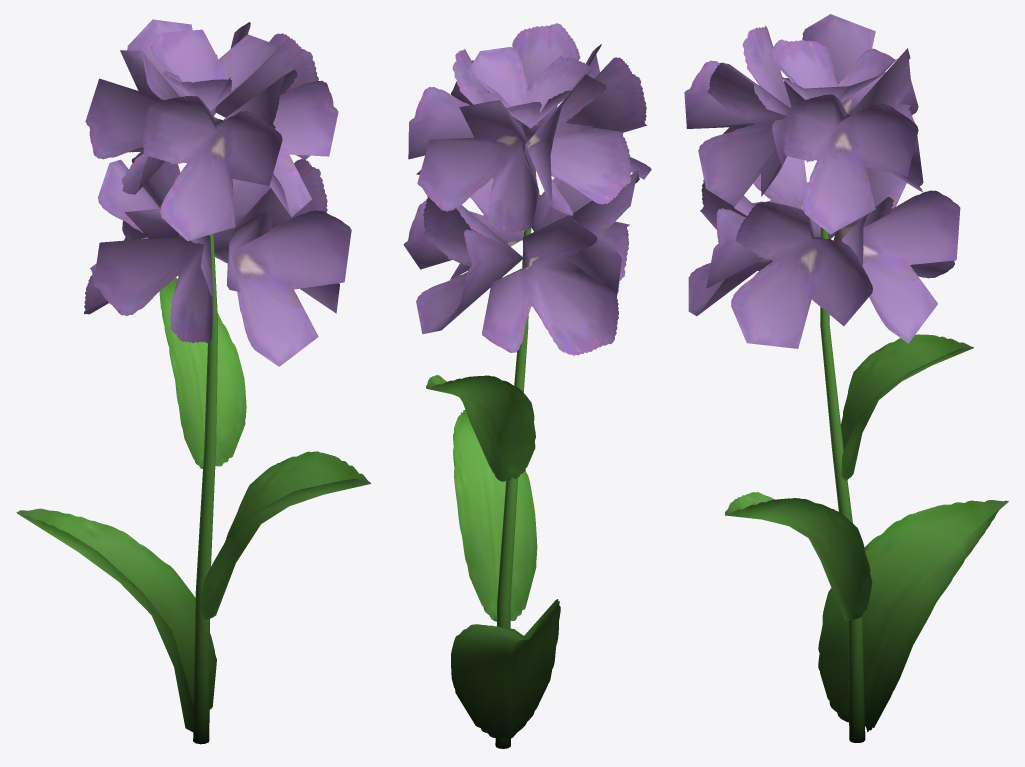
File: flower-2.glb
3 renders of one model, left to right at view 1: azimuth 30°, elevation 25°; view 2: azimuth 150°, elevation 25°; view 3: azimuth 270°, elevation 25°, orthographic. The views are drawn at different scales.
Visible parts, largest first — view 1: Flower_2_Single; view 2: Flower_2_Single; view 3: Flower_2_Single.
Boxes of the visible parts, x1=… form: Flower_2_Single: x1=16, y1=19, x2=370, y2=744; Flower_2_Single: x1=403, y1=23, x2=651, y2=748; Flower_2_Single: x1=684, y1=14, x2=1008, y2=742.
Size of the model in its own units: 0.0983 by 0.3 by 0.127.
Materials: 2 (2 with a texture image).
